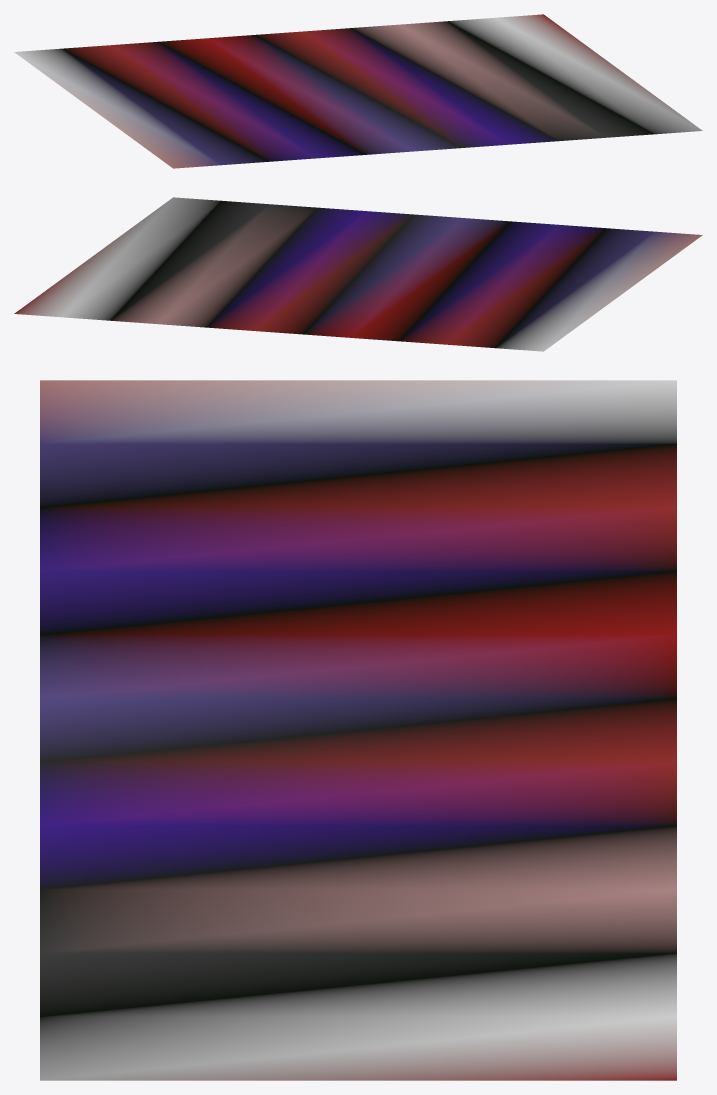
File: 2TrianglesPlane.glb
3 views of the same model, one above another, from view 1: azimuth 30°, elevation 25°; view 2: azimuth 150°, elevation 25°; view 3: azimuth 270°, elevation 25° (orthographic). The views are drawn at different scales.
Parts seen in each view (by area): view 1: Plane; view 2: Plane; view 3: Plane.
Boxes of the visible parts, <box> form: Plane: <box>14,14,702,168</box>; Plane: <box>14,197,702,351</box>; Plane: <box>40,380,676,1080</box>.
Size of the model in its own units: 11.55 by 1.91 by 6.01.
